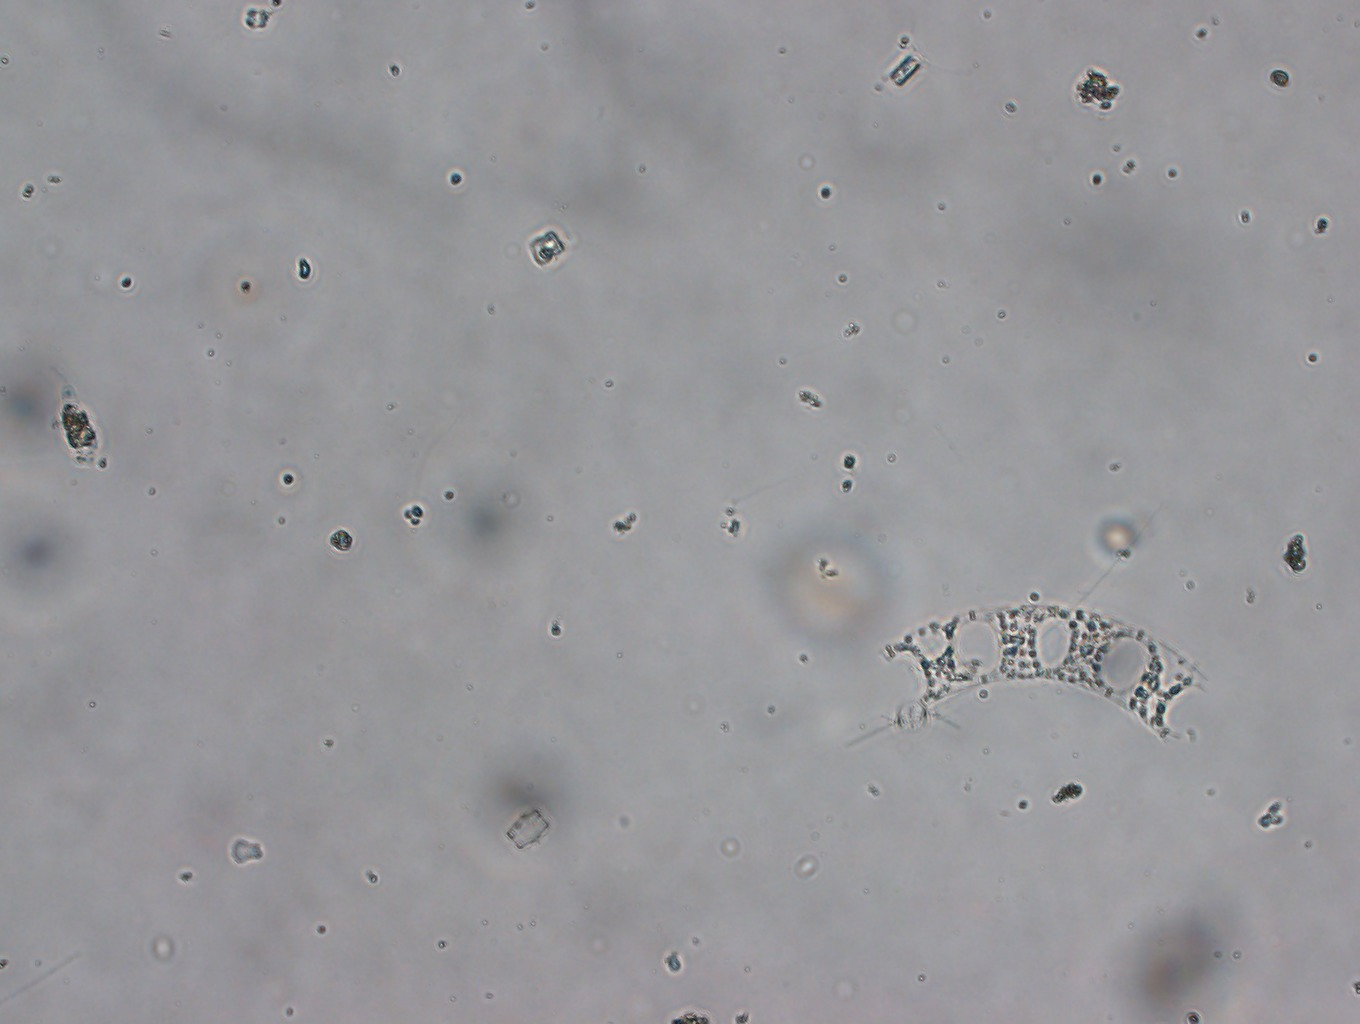eucampia: (861, 591, 1240, 760)
